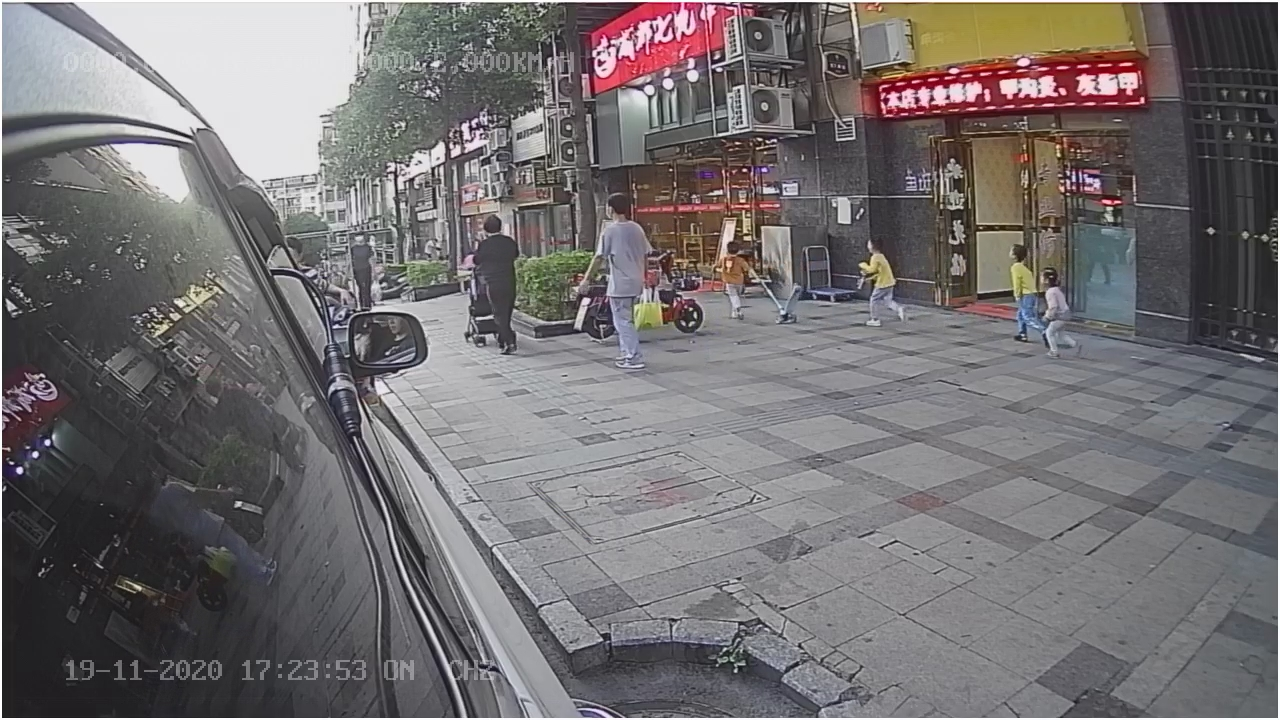person: (585, 192, 659, 371), (473, 212, 522, 357), (856, 239, 907, 330), (1040, 267, 1083, 363), (714, 238, 756, 323), (1007, 242, 1043, 341)
